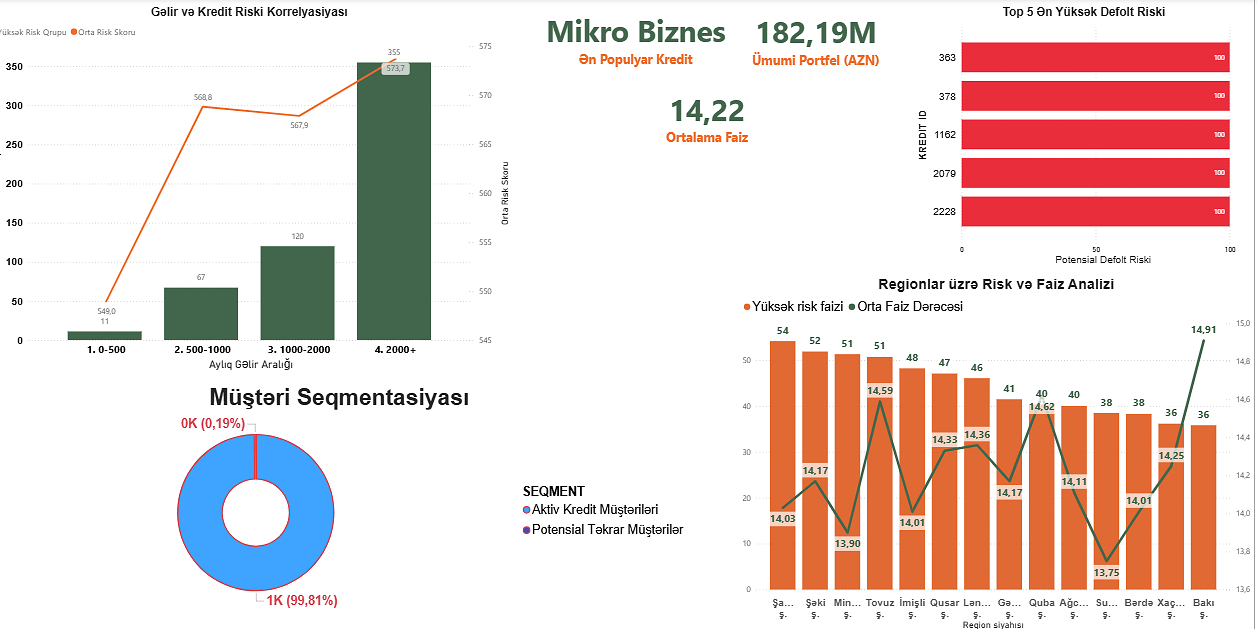

This screenshot's page, from the dashboard's own definition file:
{"tool":"powerbi","page":{"name":"Dashboard","canvas":[2000,1000],"ordinal":0},"visuals":[{"type":"card","fields":{"Values":["Avg(Export Worksheet.UMUMI_ORTA_FAIZ)"]},"box":[1024.5,130.1,224.8,113.6],"z":0},{"type":"card","fields":{"Values":["Min(Export Worksheet.EN_POPULYAR_KREDIT_NOVU)"]},"box":[861.2,0,326.5,125.4],"z":1},{"type":"card","fields":{"Values":["Sum(Export Worksheet.UMUMI_KREDIT_MEBLEGI)"]},"box":[1197.2,0,222.4,130.1],"z":2},{"type":"lineStackedColumnComboChart","title":"Regionlar üzrə Risk və Faiz Analizi","fields":{"Category":["Q3.REGION_SIYAHISI"],"Y":["Sum(Q3.YR_MUSTERI_FAIZI)"],"Y2":["Sum(Q3.ORTA_FAIZ_DERECESI)"]},"box":[1187.7,437.7,811.5,563.1],"z":4},{"type":"clusteredBarChart","title":"Top 5 Ən Yüksək Defolt Riski","fields":{"Category":["Q4.KREDIT_ID"],"Y":["Sum(Q4.POTENSIAL_DEFOLT_RISK)"]},"box":[1464.5,11.8,534.7,414],"z":5},{"type":"lineClusteredColumnComboChart","title":"Gəlir və Kredit Riski Korrelyasiyası","fields":{"Category":["Q5.AYLIQ_GELIRLER"],"Y":["Sum(Q5.YUKSEK_RQ_SAYI)"],"Y2":["Sum(Q5.ORTALAMA_SKOR)"]},"box":[0,11.8,830.4,579.7],"z":6},{"type":"donutChart","title":"Müştəri Seqmentasiyası ","fields":{"Category":["Q6.SEQMENT"],"Y":["Sum(Q6.MUSTERI_SAYI)"]},"box":[0,608,1114.4,366.7],"z":7}]}

Visuals, with their boxes in screenshot pixels (x1, y1, x2, y2), scaled from the page's 2000x1000 canvas onto the 1257x629 screenshot:
card - Avg(Export Worksheet.UMUMI_ORTA_FAIZ): crop(644, 82, 785, 153)
card - Min(Export Worksheet.EN_POPULYAR_KREDIT_NOVU): crop(541, 0, 746, 79)
card - Sum(Export Worksheet.UMUMI_KREDIT_MEBLEGI): crop(752, 0, 892, 82)
"Regionlar üzrə Risk və Faiz Analizi" lineStackedColumnComboChart: crop(746, 275, 1256, 628)
"Top 5 Ən Yüksək Defolt Riski" clusteredBarChart: crop(920, 7, 1256, 268)
"Gəlir və Kredit Riski Korrelyasiyası" lineClusteredColumnComboChart: crop(0, 7, 522, 372)
"Müştəri Seqmentasiyası " donutChart: crop(0, 382, 700, 613)
